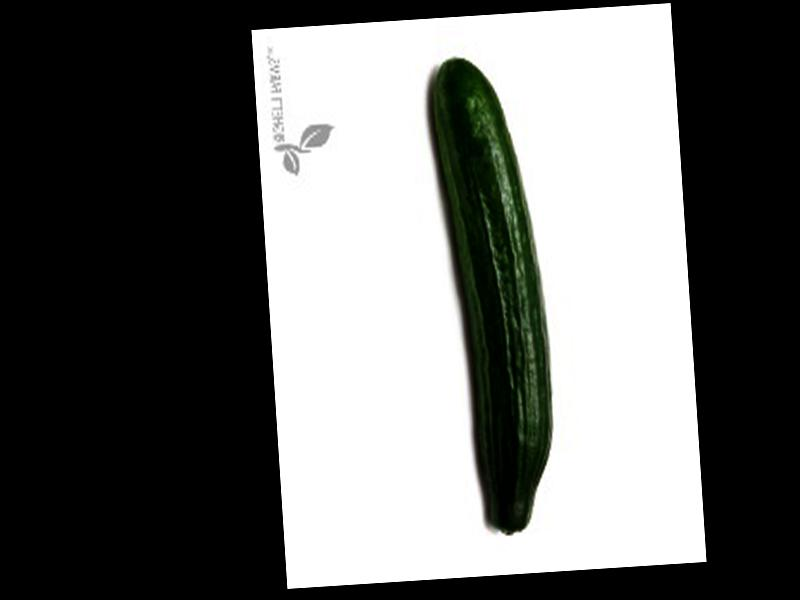Cucumber: (429, 51, 559, 537)
